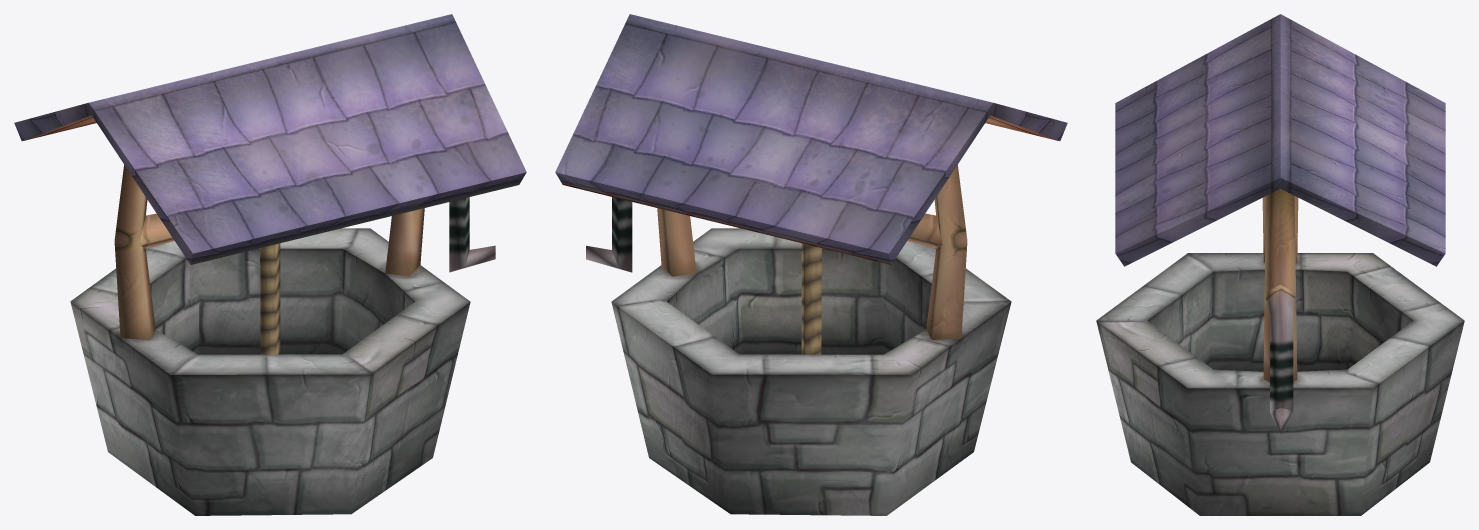
File: BKS_Set3_WellA.fbx
3 renders of one model, left to right at view 1: azimuth 30°, elevation 25°; view 2: azimuth 150°, elevation 25°; view 3: azimuth 270°, elevation 25°, orthographic. The views are drawn at different scales.
Visible parts, largest first — view 1: wellA; view 2: wellA; view 3: wellA.
Part boxes in pixels (x1,y1,x2,y2): wellA: (14,14,526,515); wellA: (555,14,1067,515); wellA: (1096,14,1464,515).
Size of the model in its own units: 3.93 by 3.66 by 3.34.
